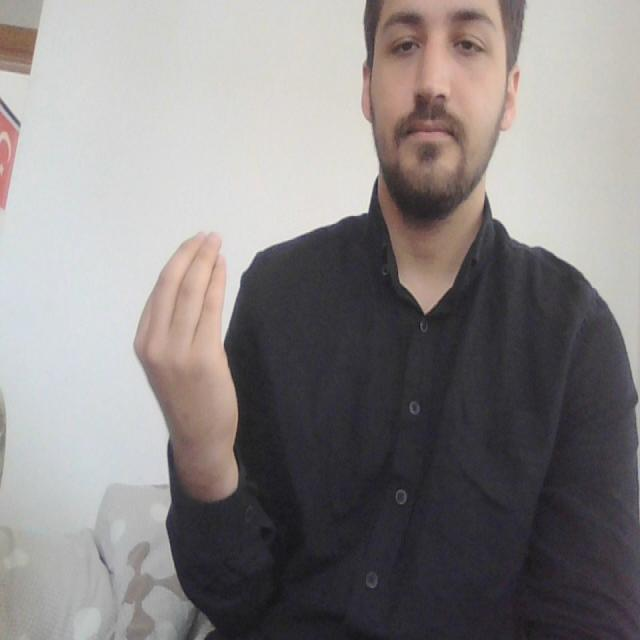iyi: (125, 221, 236, 394)
